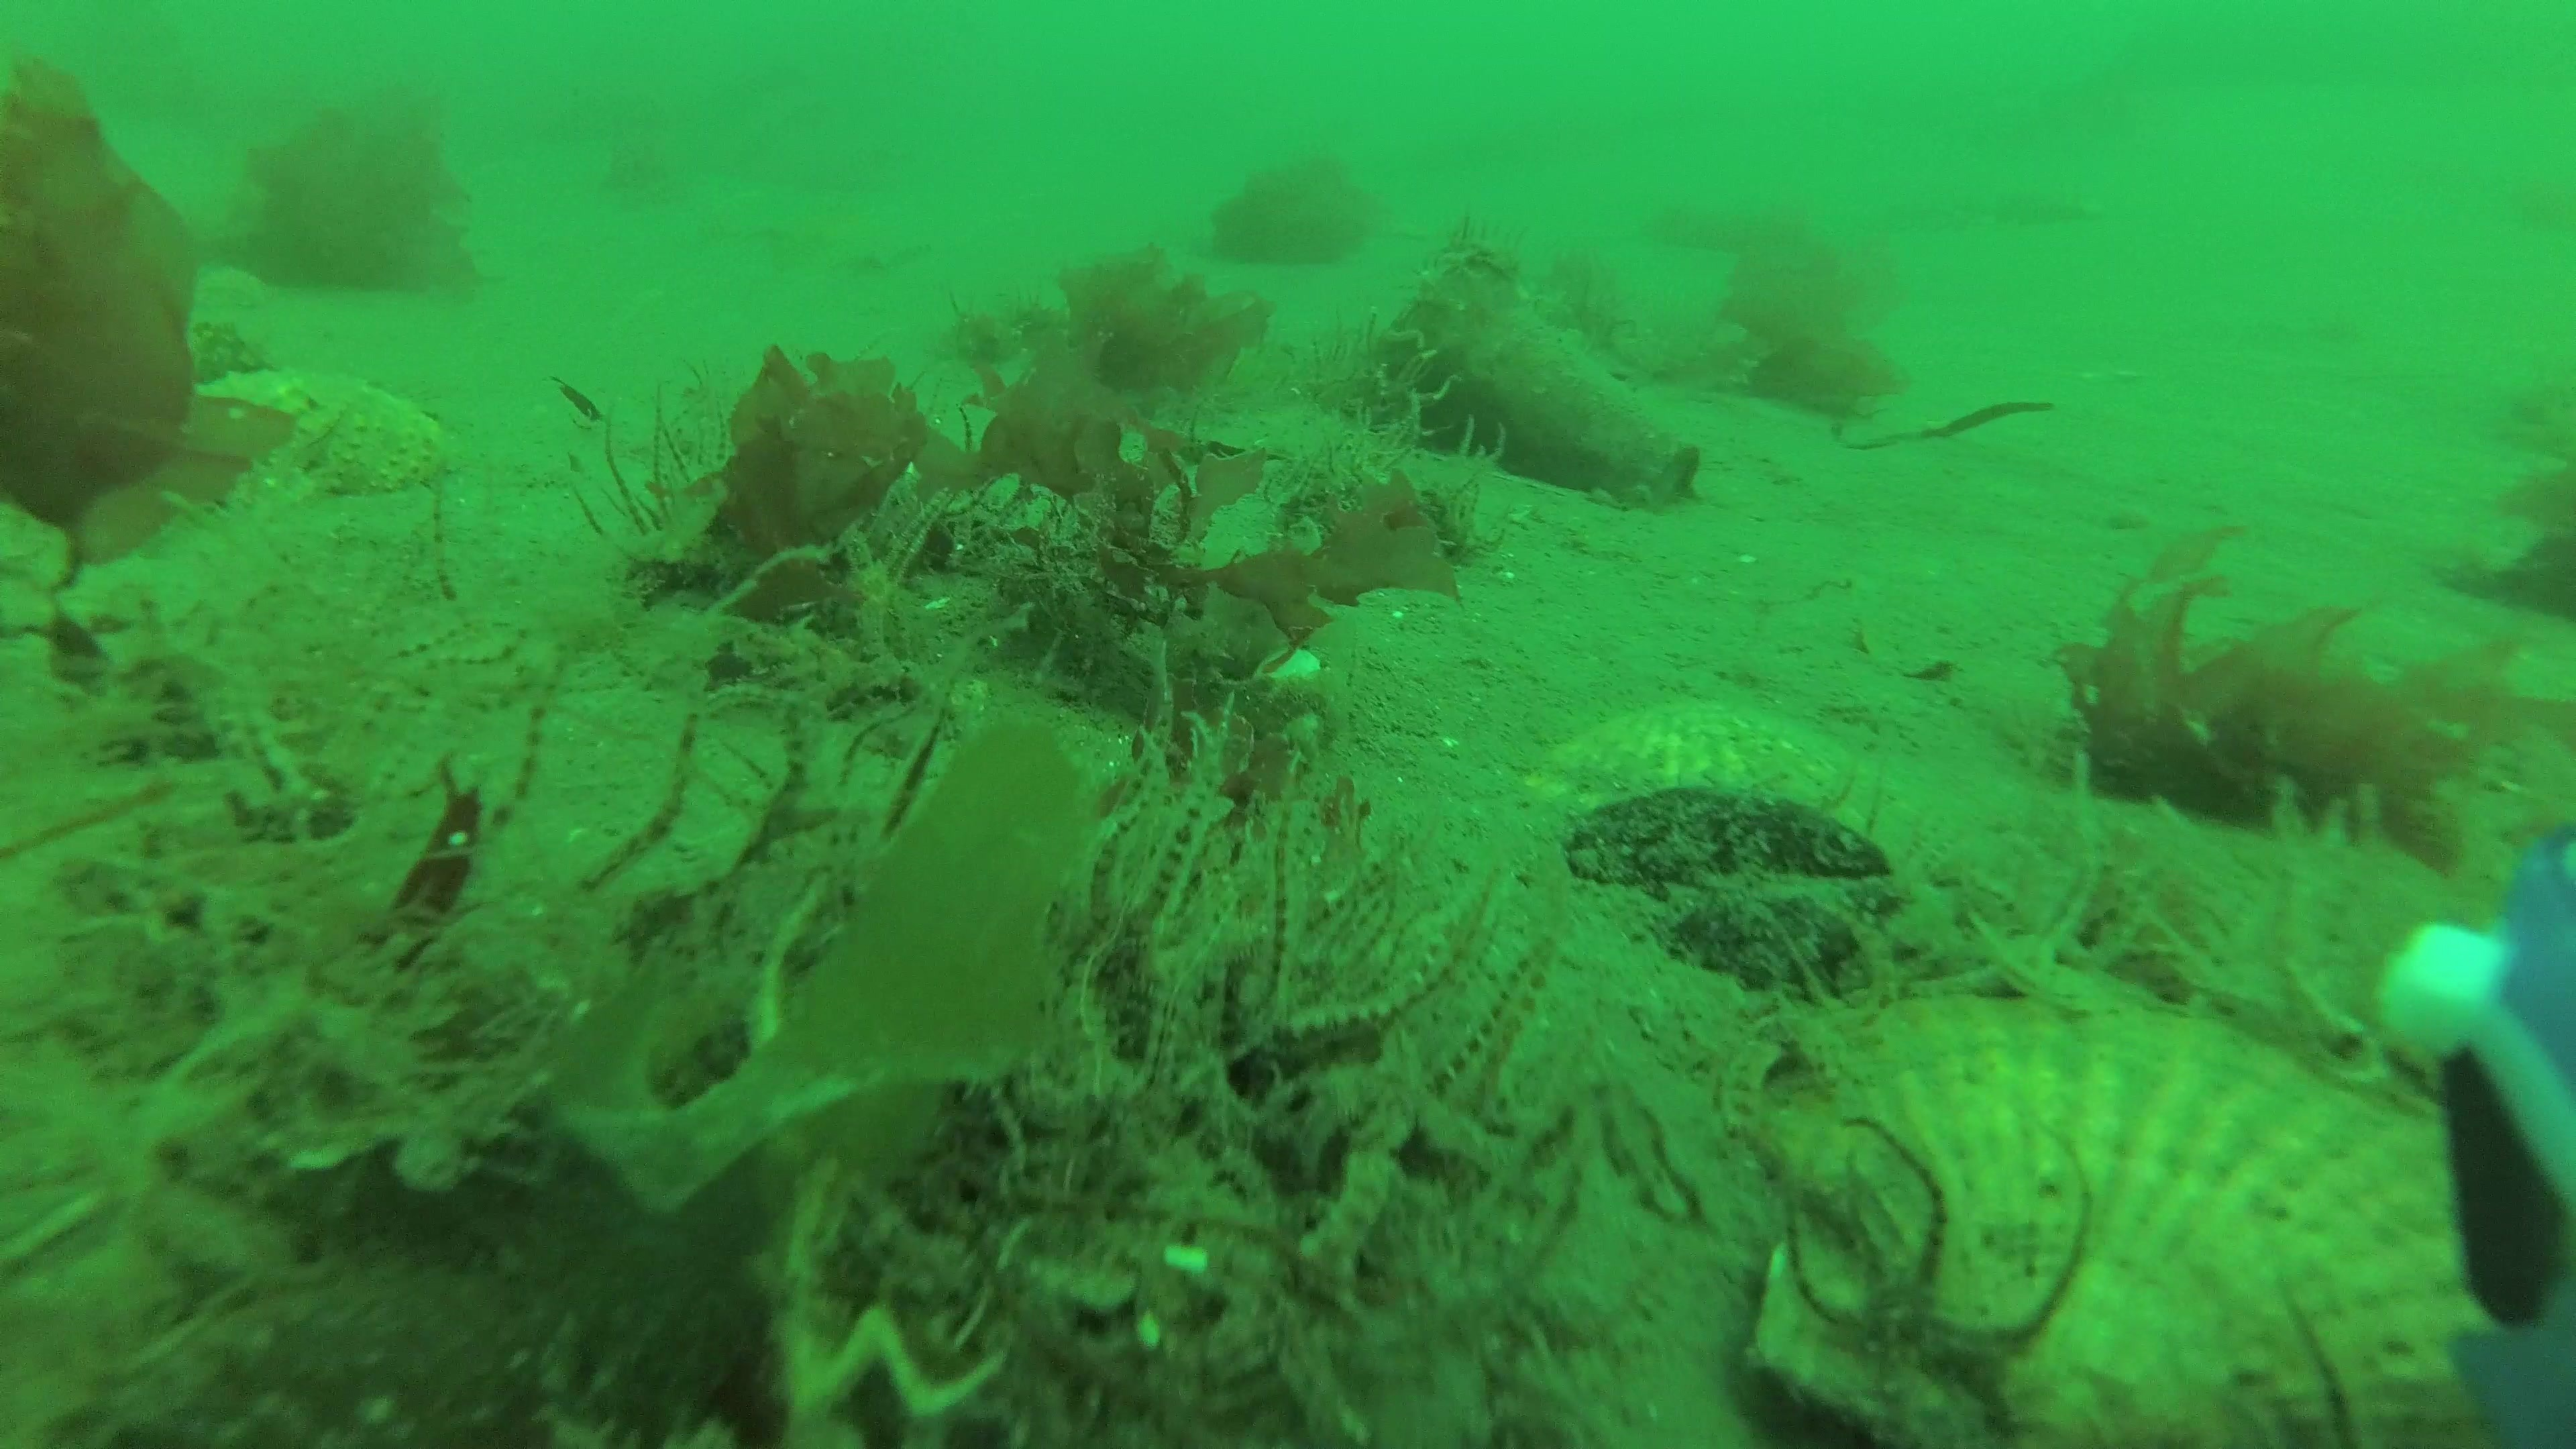scallop: (1736, 973, 2509, 1449), (1509, 692, 1944, 844)
